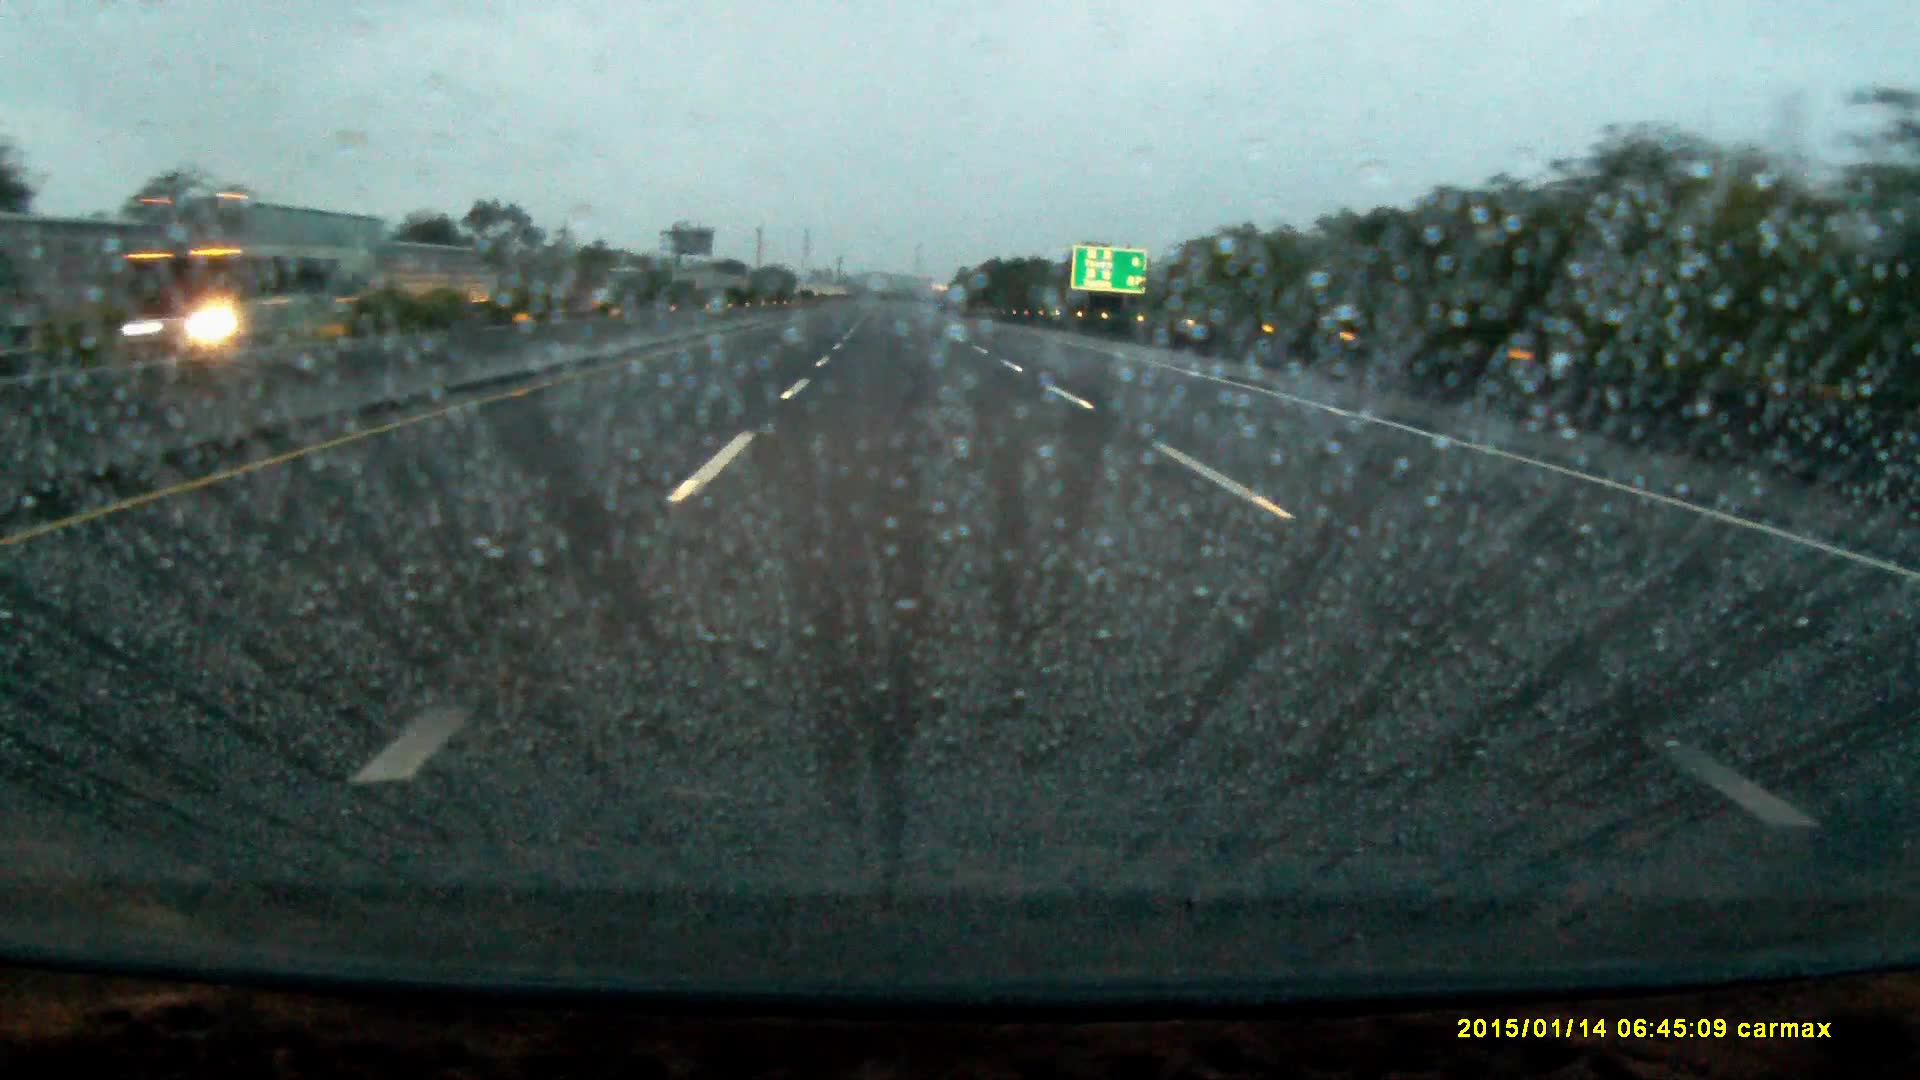vehicle: (102, 189, 353, 342), (604, 266, 670, 307)
